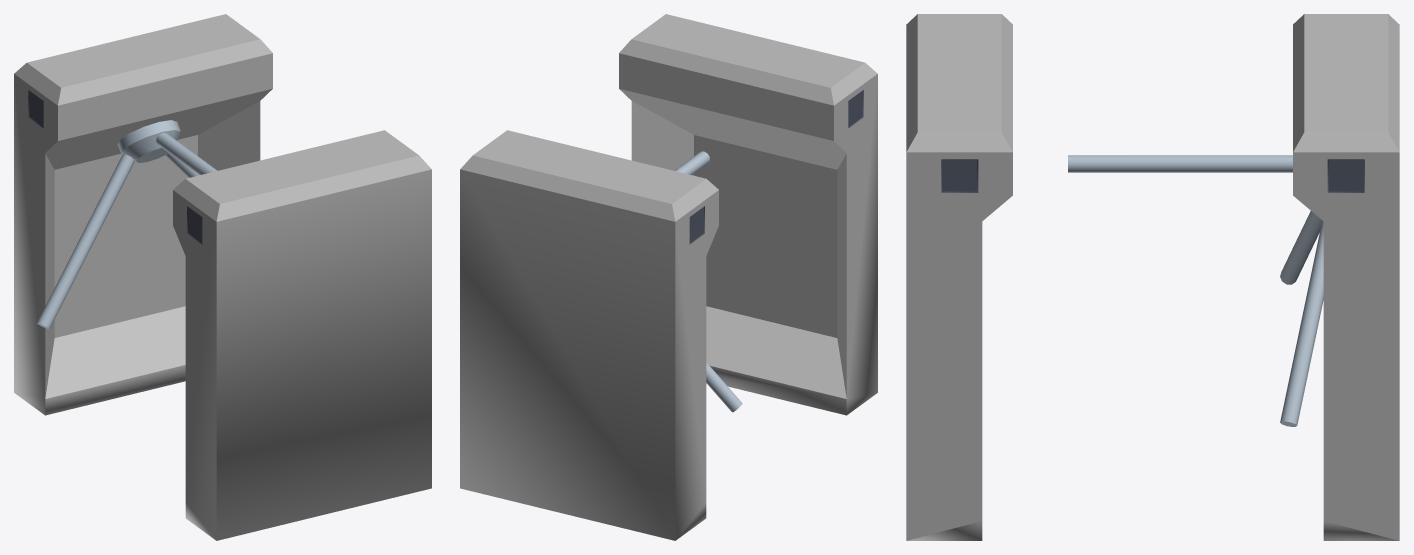
File: turnstile (1).fbx
3 views of the same model, side by side, from view 1: azimuth 30°, elevation 25°; view 2: azimuth 150°, elevation 25°; view 3: azimuth 270°, elevation 25° (orthographic). The views are drawn at different scales.
Visible parts, largest first — view 1: turnstiles, turnstiles.001; view 2: turnstiles, turnstiles.001; view 3: turnstiles, turnstiles.001.
Part boxes in pixels (x1=…): turnstiles: x1=14, y1=14, x2=431, y2=540; turnstiles.001: x1=37, y1=120, x2=217, y2=329; turnstiles: x1=460, y1=14, x2=877, y2=540; turnstiles.001: x1=674, y1=151, x2=742, y2=412; turnstiles: x1=906, y1=14, x2=1399, y2=540; turnstiles.001: x1=1068, y1=155, x2=1323, y2=426.
Bounding box in the file's own units: 82.09 × 101 × 112.
